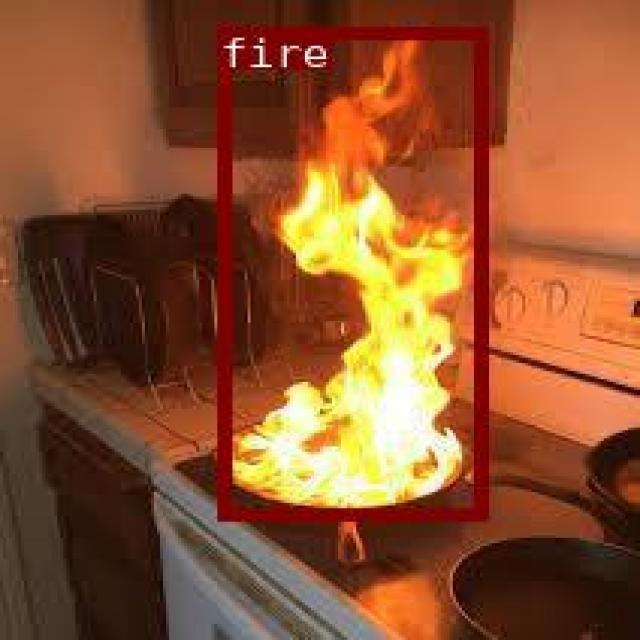fire: (215, 25, 485, 516)
